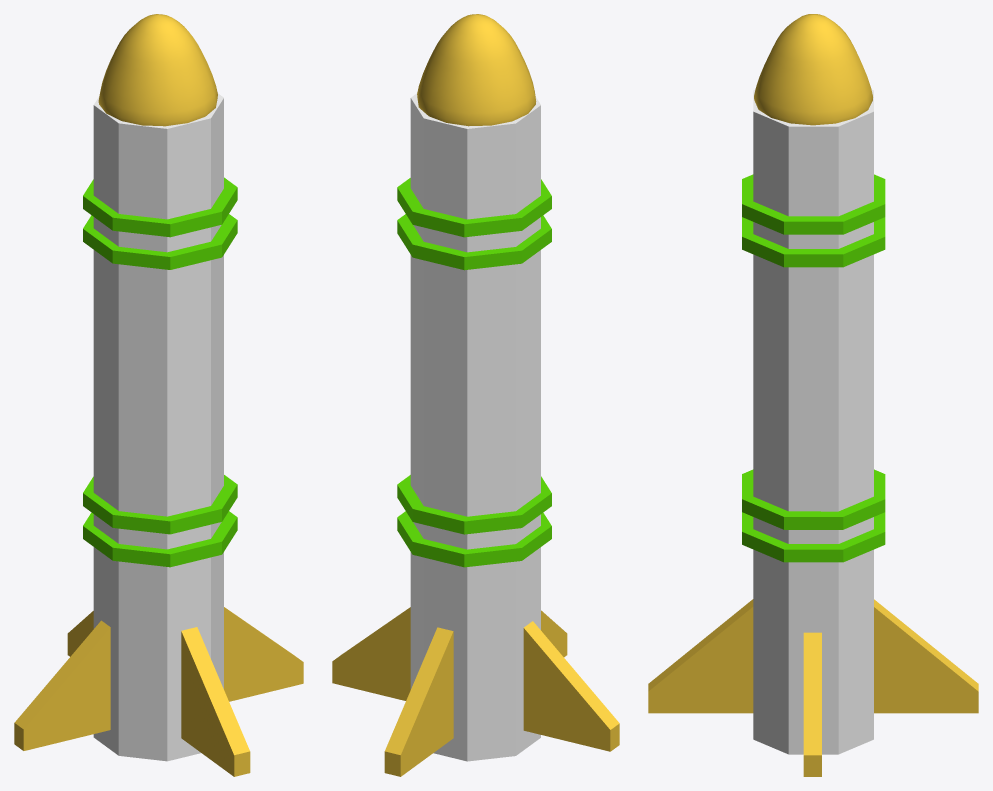
File: missile_lv2.fbx
The picture shows the model from 3 angles, left to right: view 1: azimuth 30°, elevation 25°; view 2: azimuth 150°, elevation 25°; view 3: azimuth 270°, elevation 25°; orthographic projection.
Visible parts, largest first — view 1: missile_lv2; view 2: missile_lv2; view 3: missile_lv2.
Part boxes in pixels (x1=…): missile_lv2: x1=14, y1=14, x2=303, y2=776; missile_lv2: x1=332, y1=14, x2=619, y2=776; missile_lv2: x1=648, y1=14, x2=978, y2=776.
Size of the model in its own units: 91.31 by 225 by 94.37.
